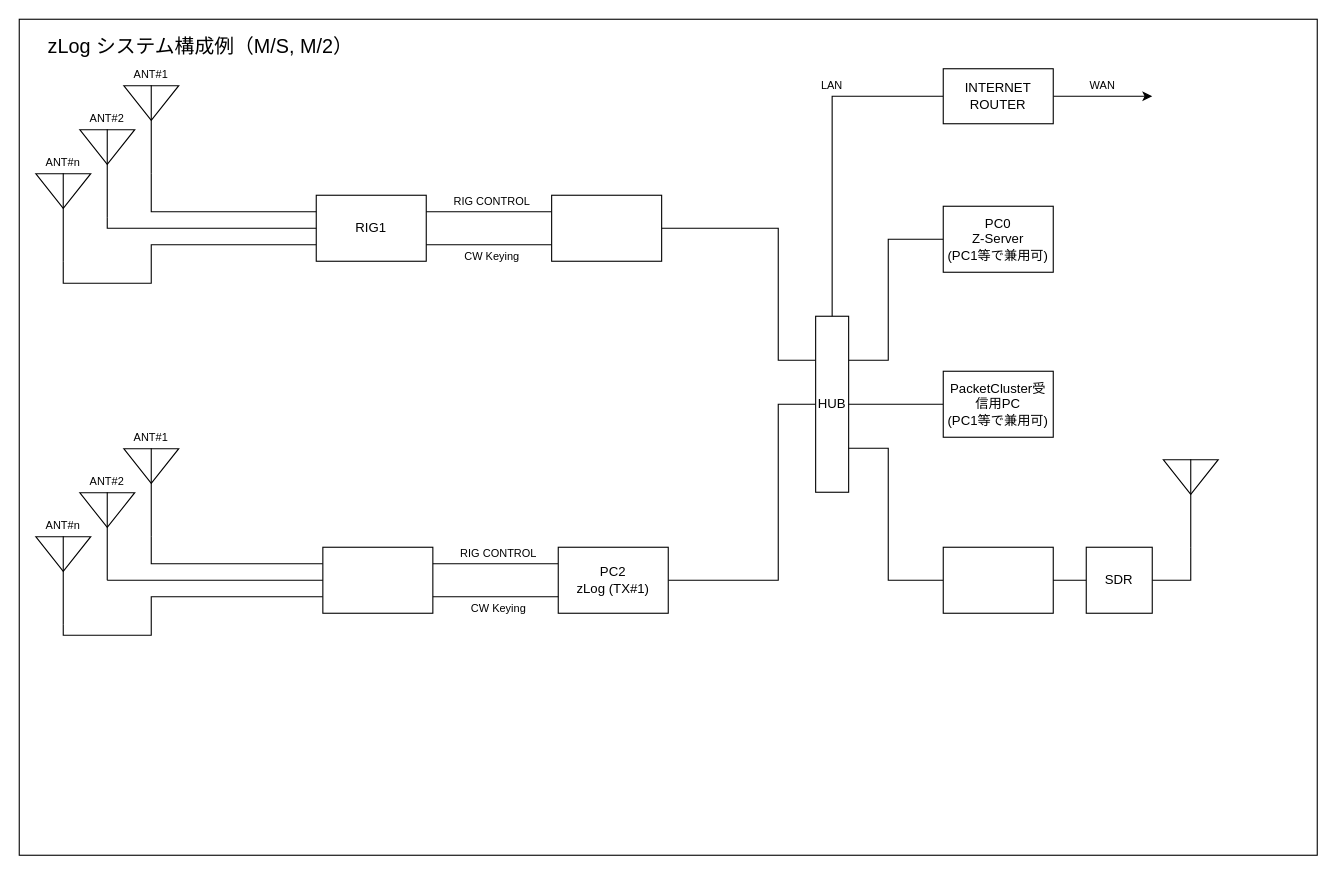
Image size: 1337x875. Some labels were removed from this diagram. The box of each missing label's shape, as (x1, y1, x2, y2) in pixels:
PC1 zLog (TX#0): (551, 194, 662, 261)
RIG2: (322, 546, 433, 613)
Skimmer用PC (PC1等で兼用可): (942, 546, 1053, 613)
